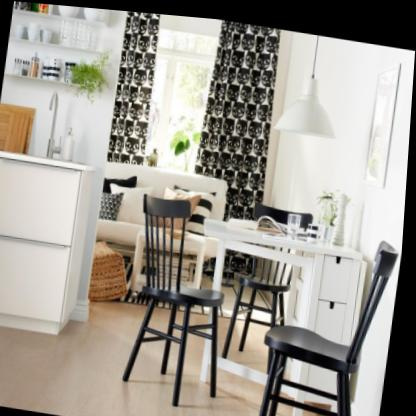Chair: (252, 214, 406, 416), (120, 188, 246, 410)
